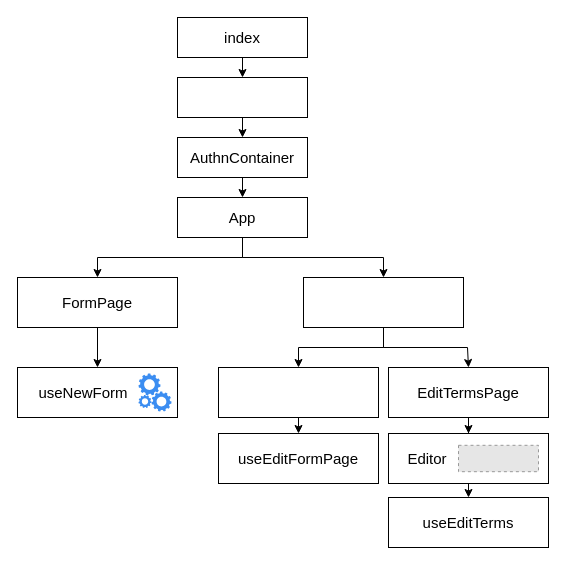
This 566x565 diagram has some shape labels left out. Grey dashed boxes stand in for pictures. Each missing label, with the centre of its shape:
"Backoffice" goes at point 383,302.
"EditFormPage" goes at point 298,392.
"I18nextProvider" goes at point 242,97.
